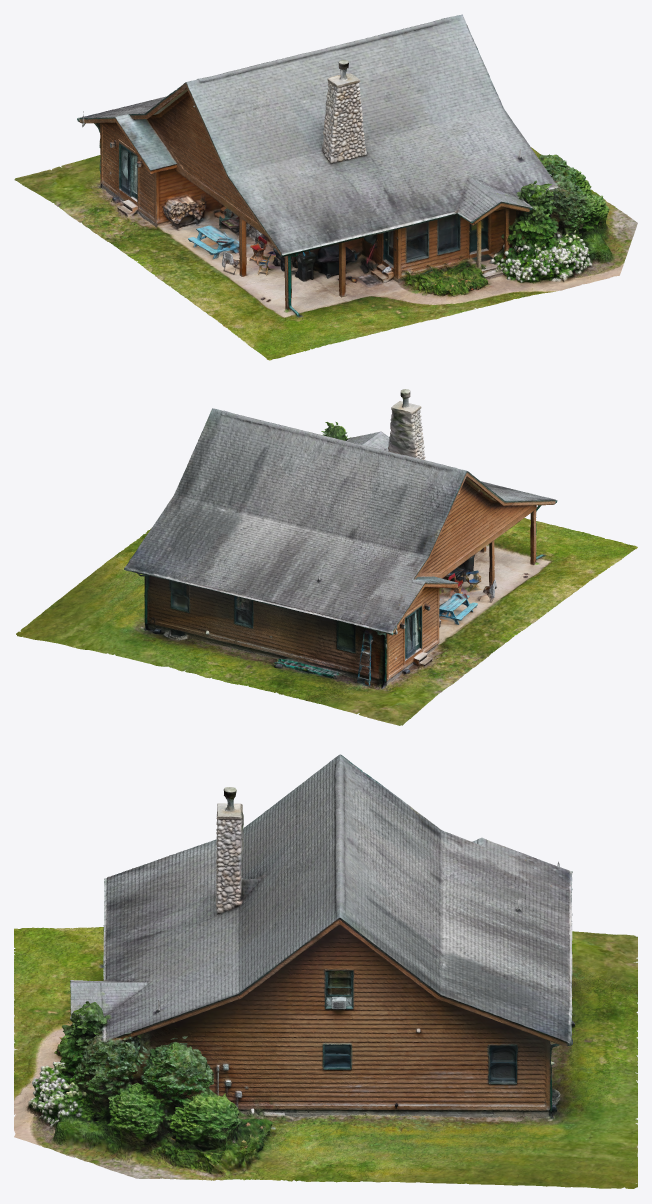
The model's file is Cabin.glb.
3 renders of one model, top to bottom at view 1: azimuth 30°, elevation 25°; view 2: azimuth 150°, elevation 25°; view 3: azimuth 270°, elevation 25°, orthographic. The views are drawn at different scales.
Bounding box in the file's own units: 1.53 × 0.7163 × 1.63.
Materials: 1 (1 with a texture image).
